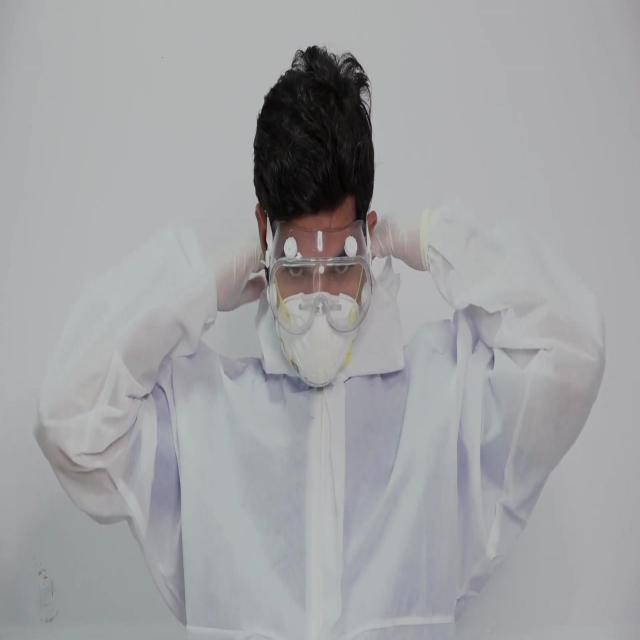Gloves: (264, 219, 373, 336), (216, 240, 266, 313), (370, 215, 428, 272)
